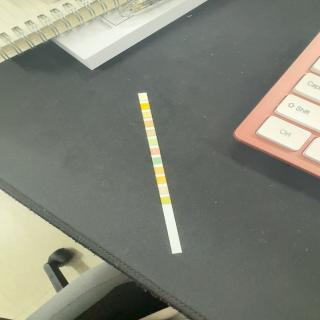mark: (158, 186, 168, 194), (156, 176, 166, 184), (150, 147, 160, 155), (161, 197, 171, 204), (144, 120, 154, 127), (155, 167, 164, 174), (153, 157, 162, 164), (141, 103, 150, 110), (147, 129, 155, 136), (143, 111, 151, 118), (149, 139, 157, 145), (140, 95, 148, 101)
